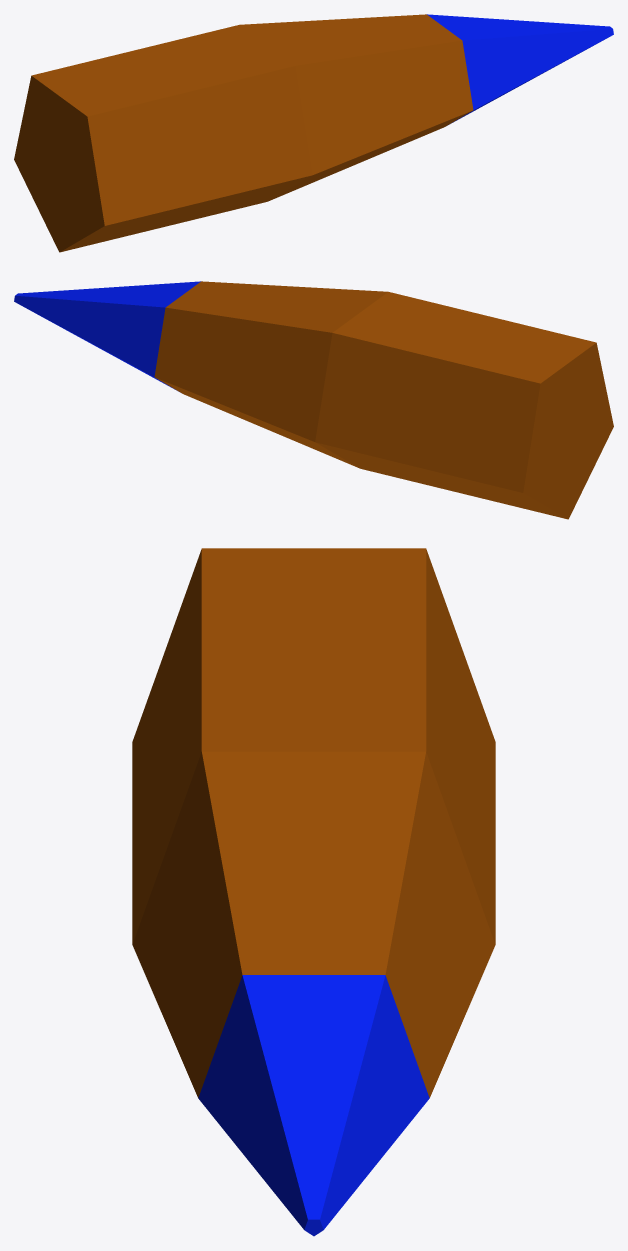
Rendered from Musket bullet blue.FBX.
3 views of the same model, one above another, from view 1: azimuth 30°, elevation 25°; view 2: azimuth 150°, elevation 25°; view 3: azimuth 270°, elevation 25° (orthographic). The views are drawn at different scales.
Visible parts, largest first — view 1: Musket bullet, Musket byllet tip; view 2: Musket bullet, Musket byllet tip; view 3: Musket bullet, Musket byllet tip.
Boxes of the visible parts, x1=… form: Musket bullet: x1=14, y1=14, x2=473, y2=252; Musket byllet tip: x1=427, y1=14, x2=613, y2=123; Musket bullet: x1=154, y1=281, x2=613, y2=519; Musket byllet tip: x1=14, y1=281, x2=200, y2=390; Musket bullet: x1=132, y1=548, x2=495, y2=1097; Musket byllet tip: x1=198, y1=975, x2=429, y2=1236.
Size of the model in its own units: 16.4 by 4.44 by 4.67.
